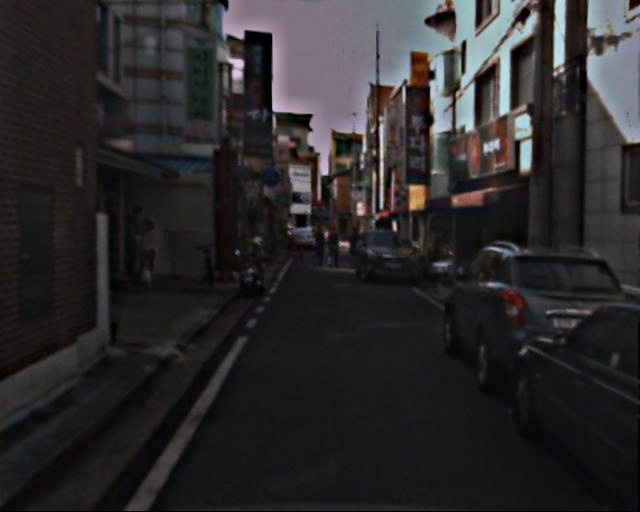person: (138, 215, 167, 286), (311, 224, 329, 269), (327, 227, 343, 267), (348, 227, 364, 265)
